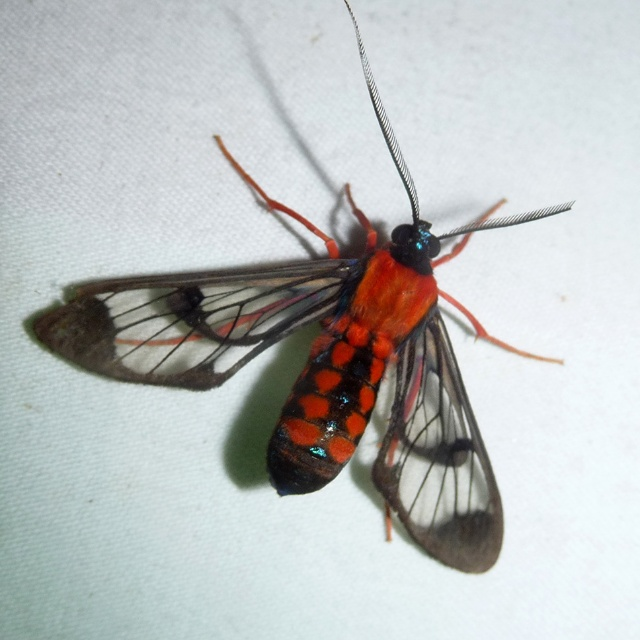Butterfly: (32, 1, 572, 575)
